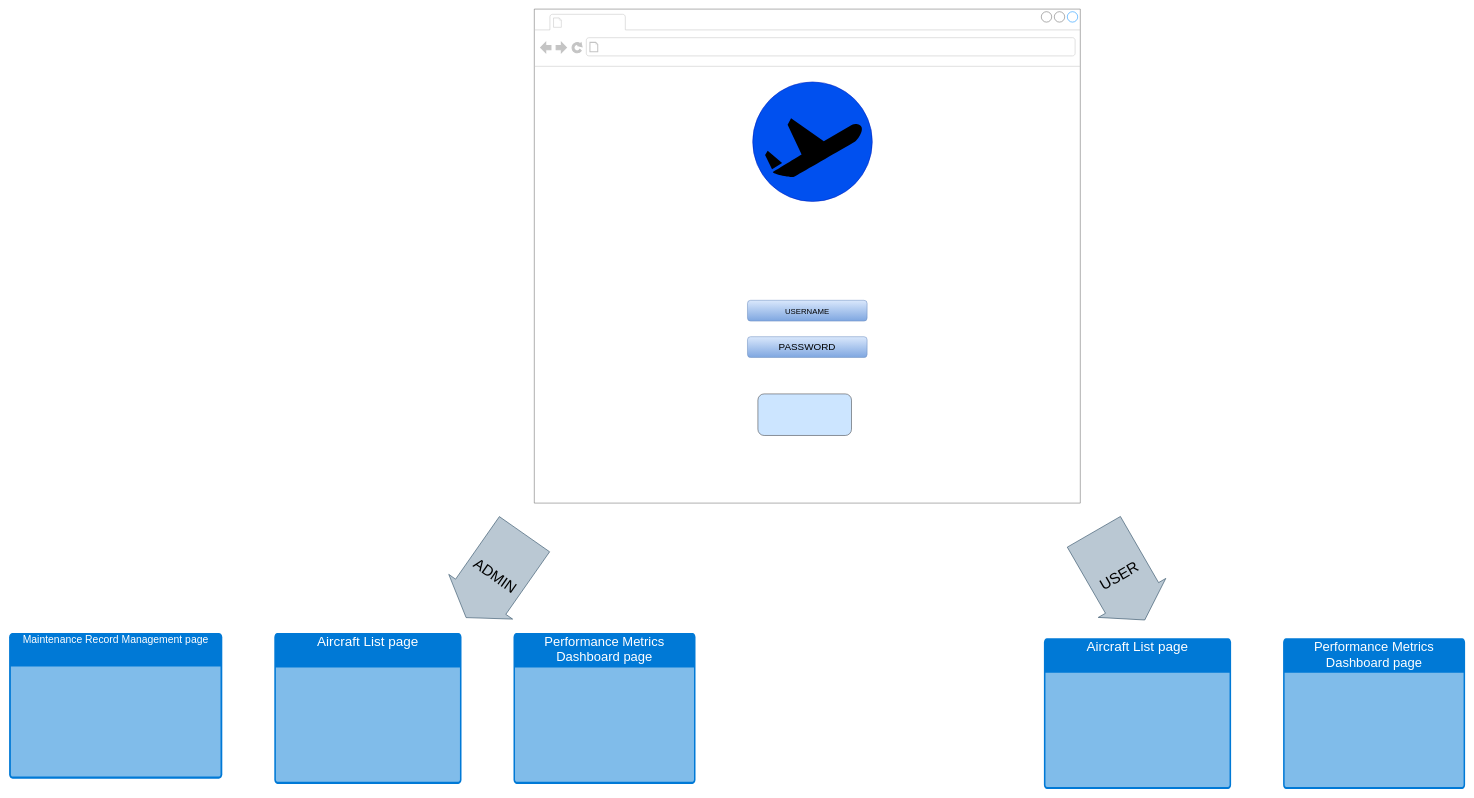
This 1474x798 diagram has some shape labels left out. The shapes that lost their labels are listed below. From the top down, each one's centre as x and y in pixels, then its label:
At point 594,22: "Page 1".
At point 666,47: "https://www.fix-my-aircraft.com/login".
At point 804,414: "LOGIN".
